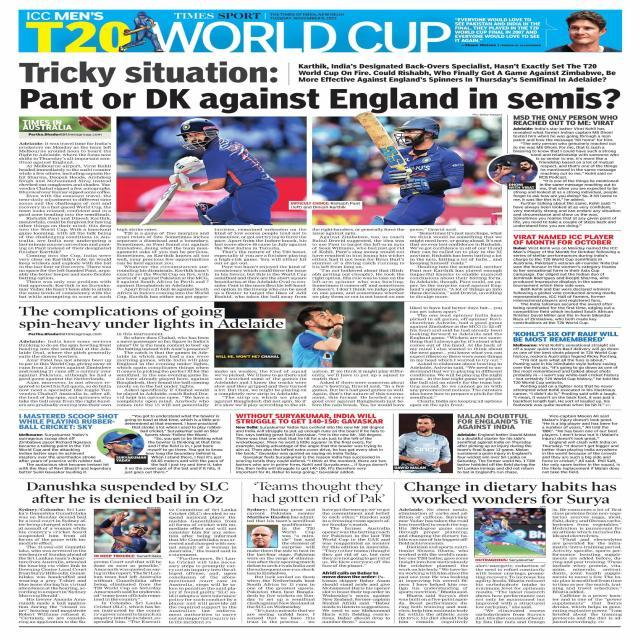Article: (15, 115, 505, 300), (14, 302, 505, 408), (397, 480, 626, 626), (16, 478, 240, 626), (242, 480, 392, 626), (396, 411, 622, 475), (14, 412, 228, 476), (508, 114, 622, 229), (511, 232, 624, 326), (232, 411, 390, 475), (508, 328, 624, 408)
Body: (19, 142, 112, 300), (410, 306, 502, 408), (512, 246, 622, 325), (551, 508, 623, 624), (17, 507, 87, 624), (167, 508, 237, 624), (399, 508, 469, 624), (235, 425, 389, 474), (117, 332, 210, 407), (512, 344, 622, 407), (408, 228, 504, 298), (214, 228, 308, 299), (312, 228, 405, 298), (116, 228, 208, 298), (18, 339, 112, 406), (247, 549, 316, 624), (540, 414, 620, 474), (92, 560, 162, 624), (474, 564, 548, 624), (322, 507, 392, 568), (512, 191, 622, 228), (322, 570, 391, 624), (214, 370, 306, 407), (456, 432, 537, 474), (312, 370, 403, 407), (512, 126, 620, 156), (140, 429, 224, 466), (536, 158, 620, 190), (18, 432, 92, 455), (18, 456, 112, 474), (124, 414, 222, 429), (244, 508, 316, 522), (281, 524, 316, 548), (123, 467, 222, 474)
Date: (271, 16, 339, 20)
Heading: (16, 86, 620, 114), (16, 306, 285, 330), (402, 480, 618, 506), (25, 481, 232, 504), (252, 482, 386, 504), (17, 412, 118, 430), (234, 412, 384, 424), (512, 233, 615, 246), (512, 330, 620, 342), (457, 413, 534, 429)
Highlights: (297, 62, 618, 82), (454, 17, 542, 43), (513, 114, 619, 126)
Image: (117, 117, 307, 226), (313, 116, 487, 226), (286, 301, 404, 368), (474, 508, 546, 557), (398, 414, 453, 474), (94, 510, 160, 552), (558, 10, 622, 52), (97, 430, 138, 456), (493, 158, 532, 182), (246, 524, 278, 548)
Name: (174, 12, 263, 20)
